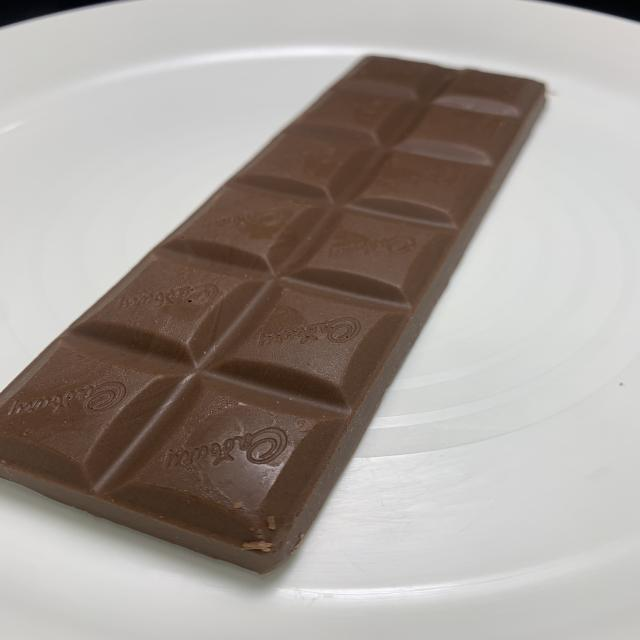chocolate: (0, 52, 538, 570)
